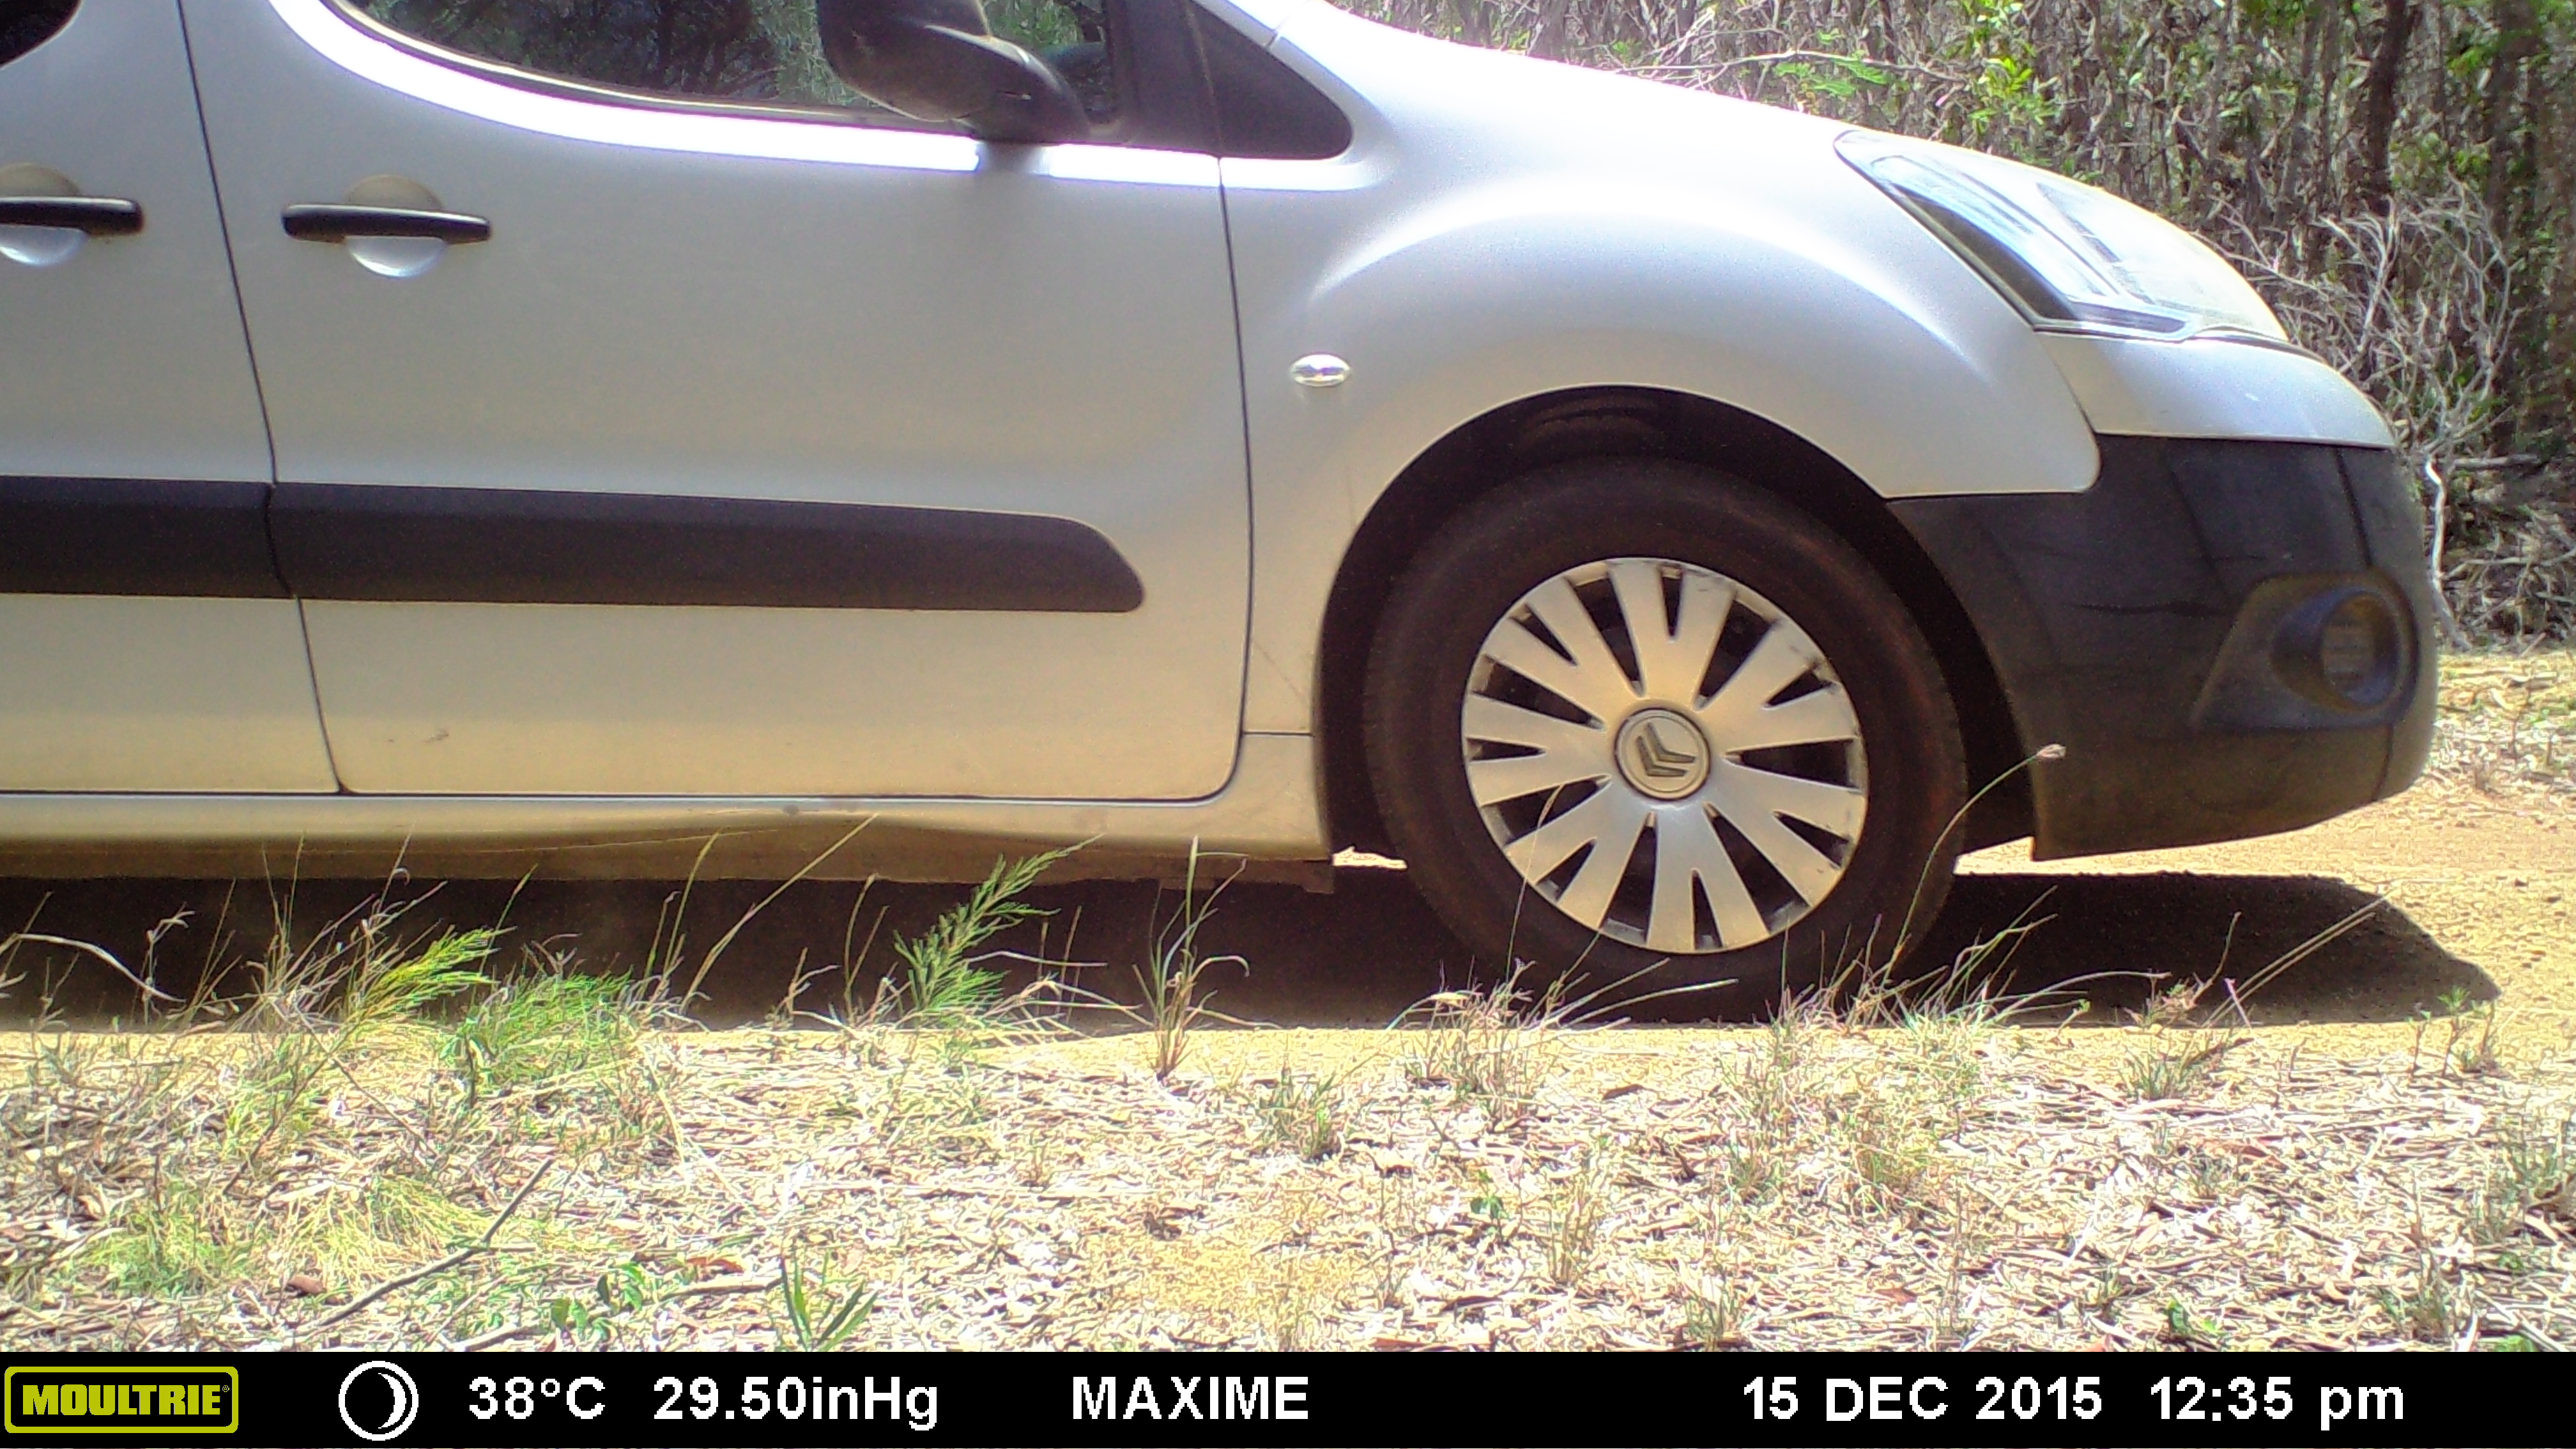Car: (2, 2, 2459, 1026)
